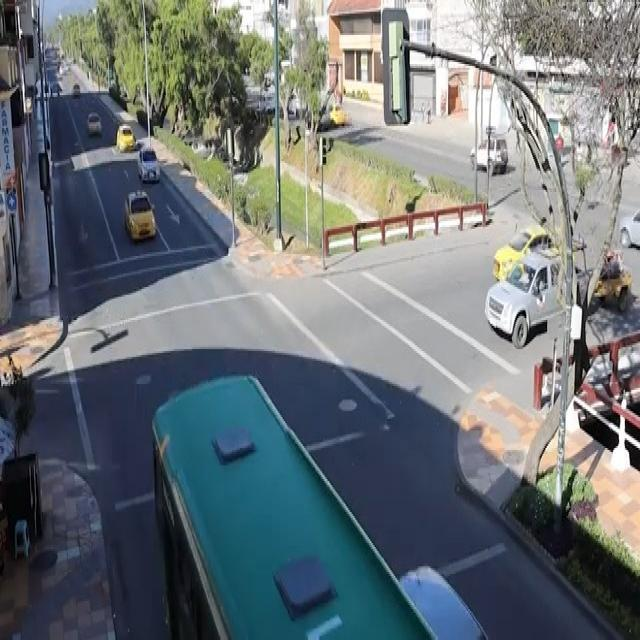CMT: (487, 247, 598, 343)
